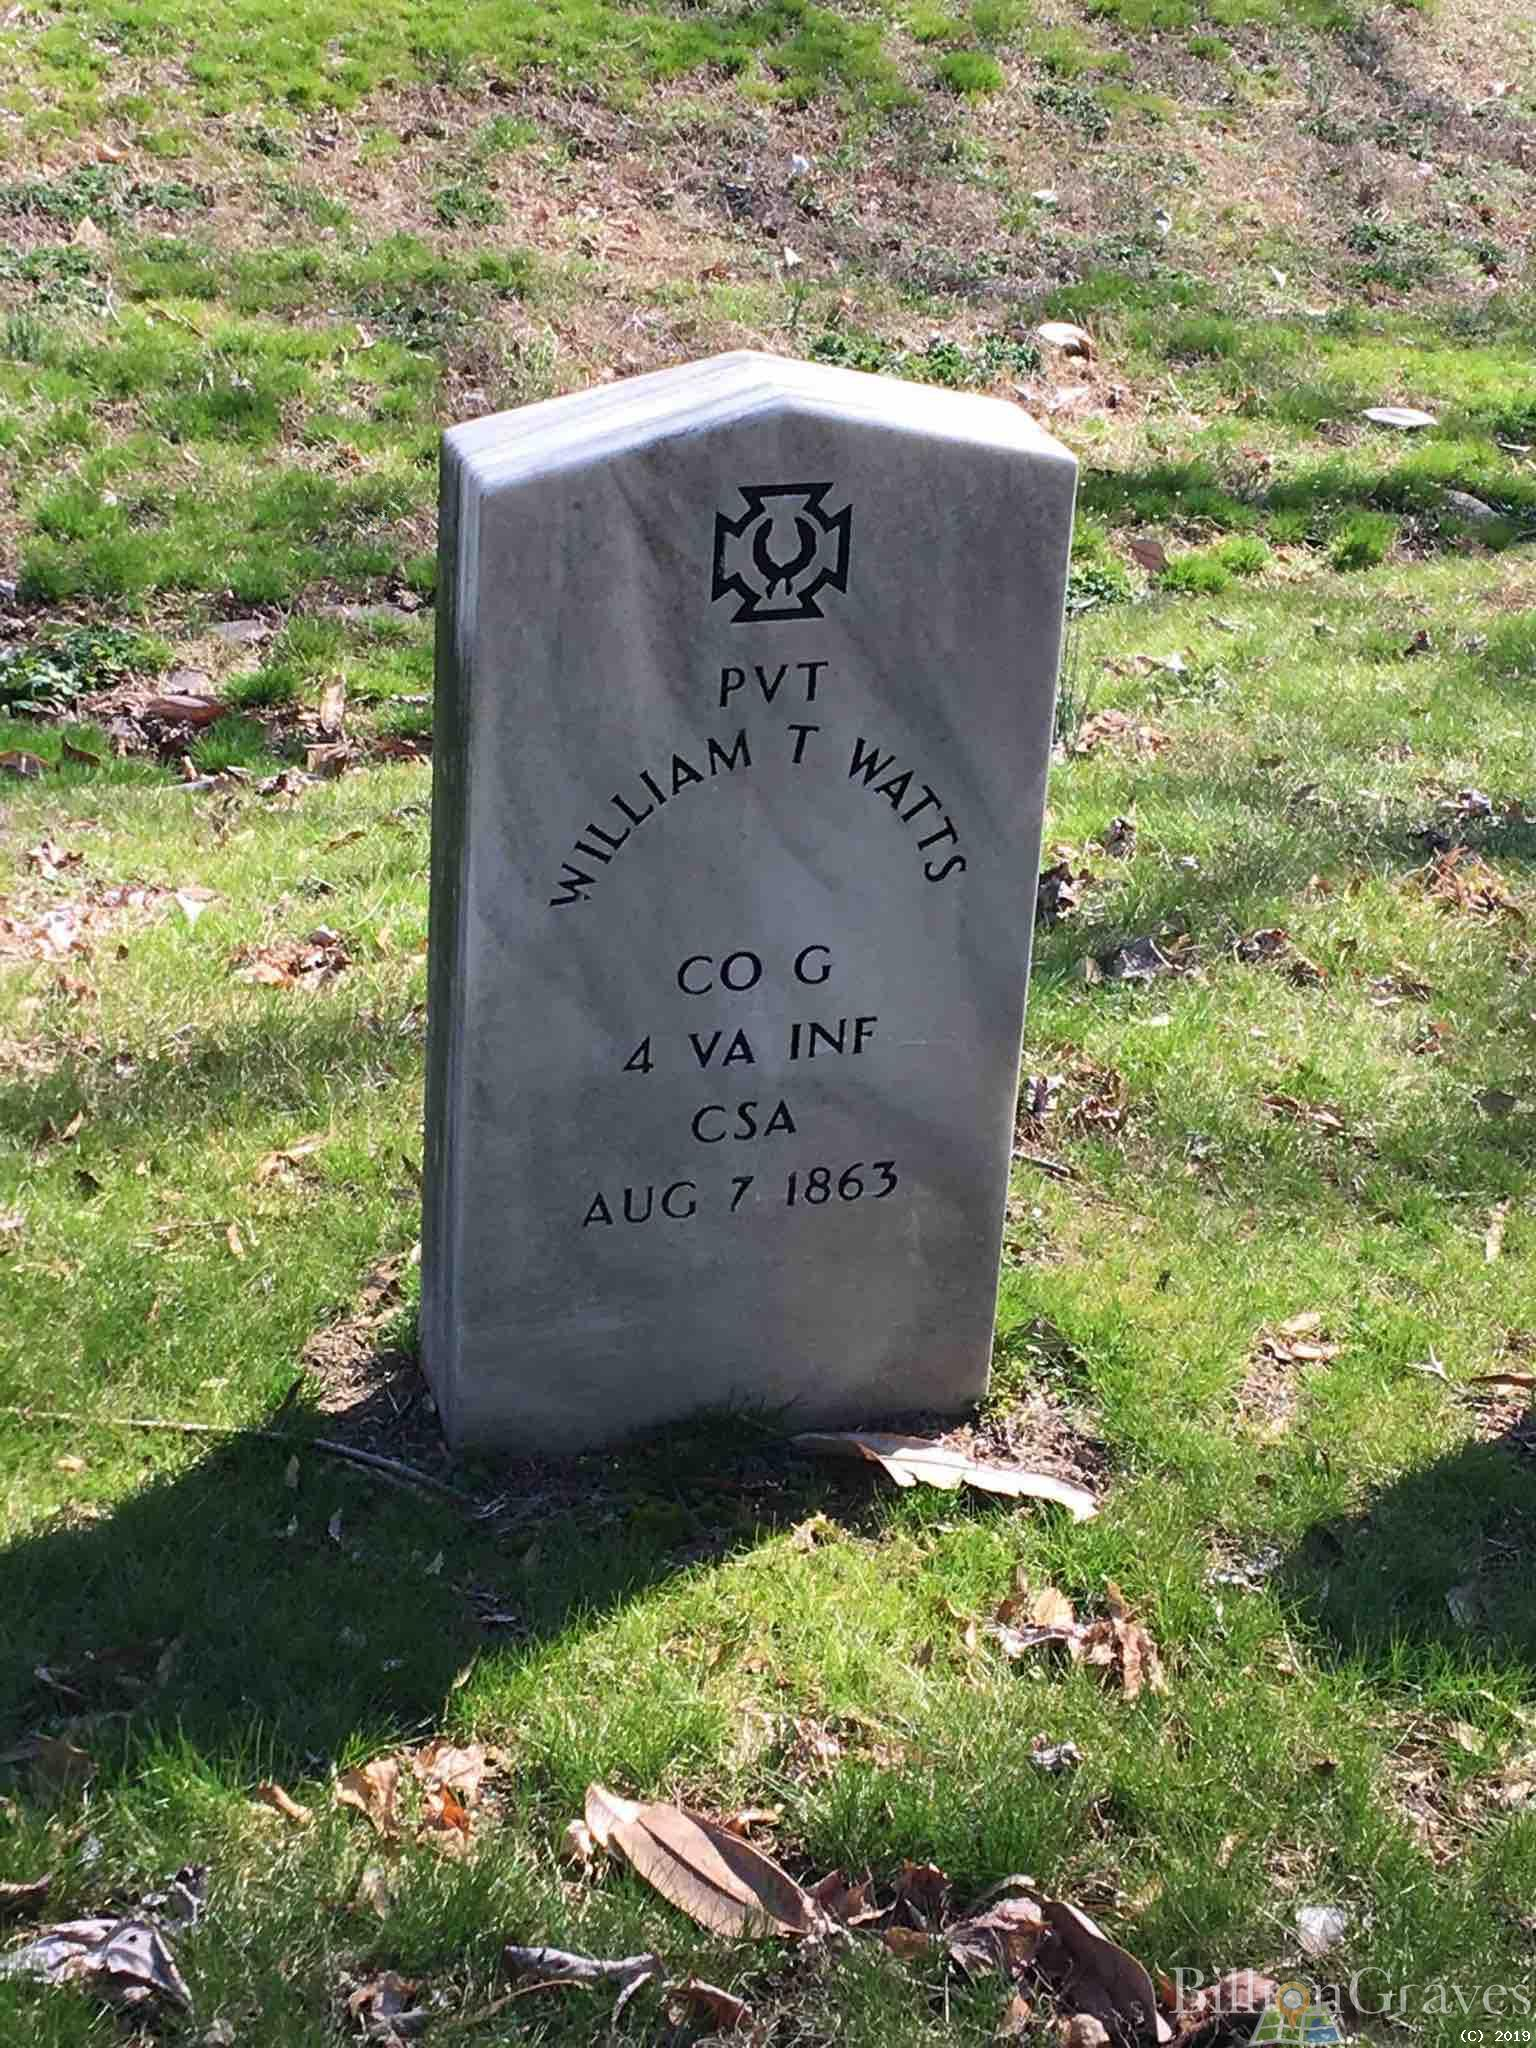military: (418, 347, 1076, 1409)
